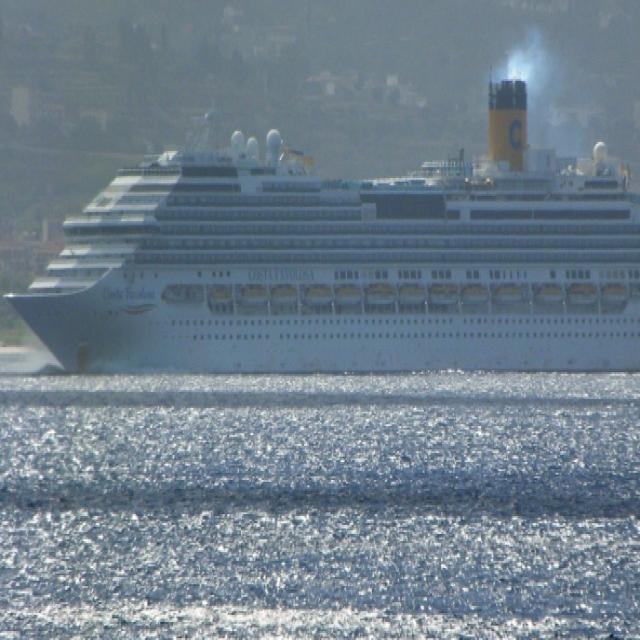cruises: (1, 64, 640, 391)
